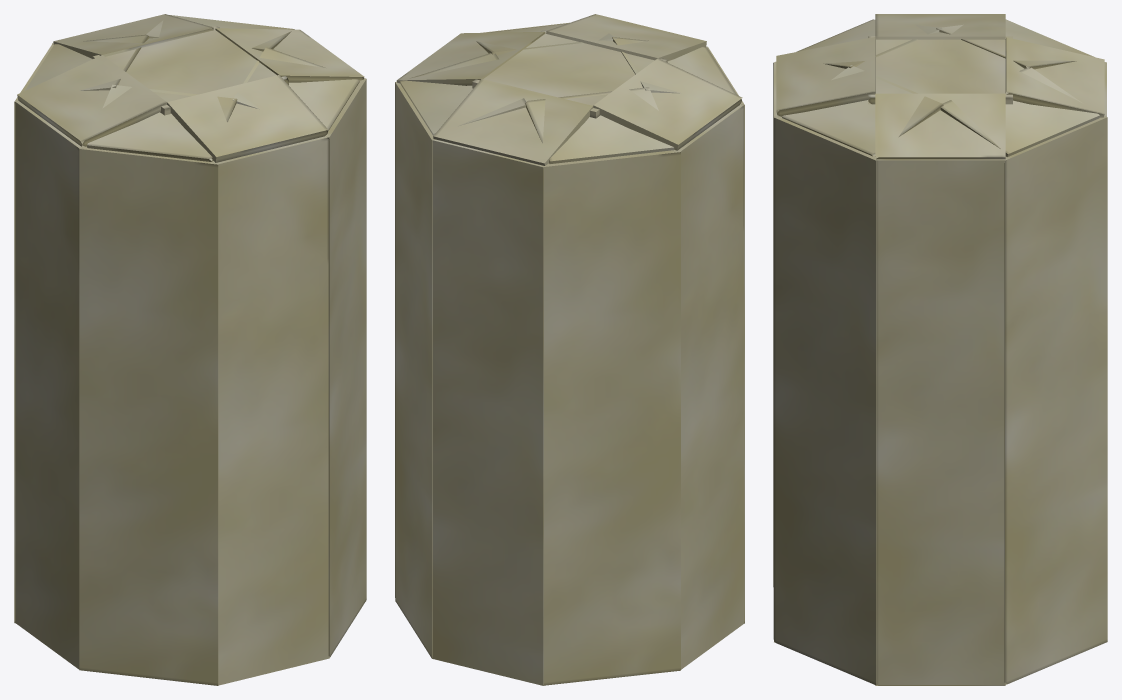
Rendered from oxygen_tank.obj.
3 views of the same model, side by side, from view 1: azimuth 30°, elevation 25°; view 2: azimuth 150°, elevation 25°; view 3: azimuth 270°, elevation 25° (orthographic).
Parts seen in each view (by area): view 1: OxygenTank; view 2: OxygenTank; view 3: OxygenTank.
Part boxes in pixels (box(x1,y1,x2,y2)): OxygenTank: box(14, 14, 366, 685); OxygenTank: box(395, 14, 744, 685); OxygenTank: box(773, 14, 1107, 685).
Size of the model in its own units: 2.89 by 5.56 by 2.88.
